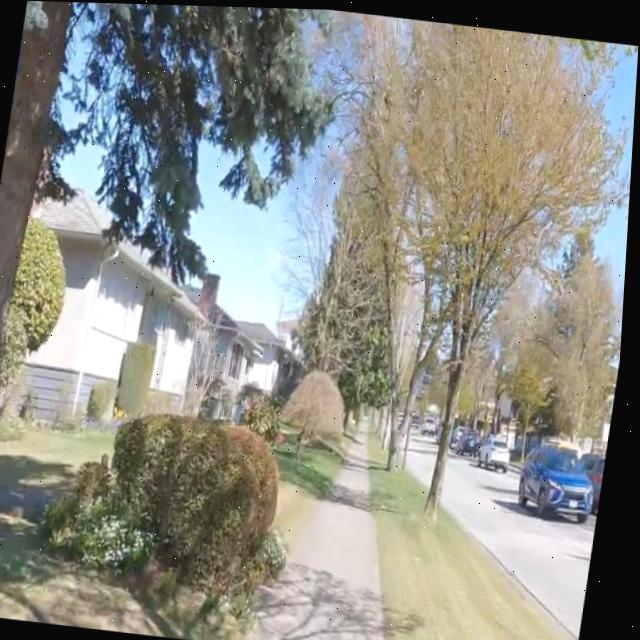Automobile: (523, 438, 599, 518), (585, 450, 611, 510), (483, 432, 515, 466), (461, 425, 485, 452), (426, 411, 442, 432)
Road: (448, 448, 603, 635), (413, 433, 440, 480)
Sidewalk: (249, 433, 393, 640)
